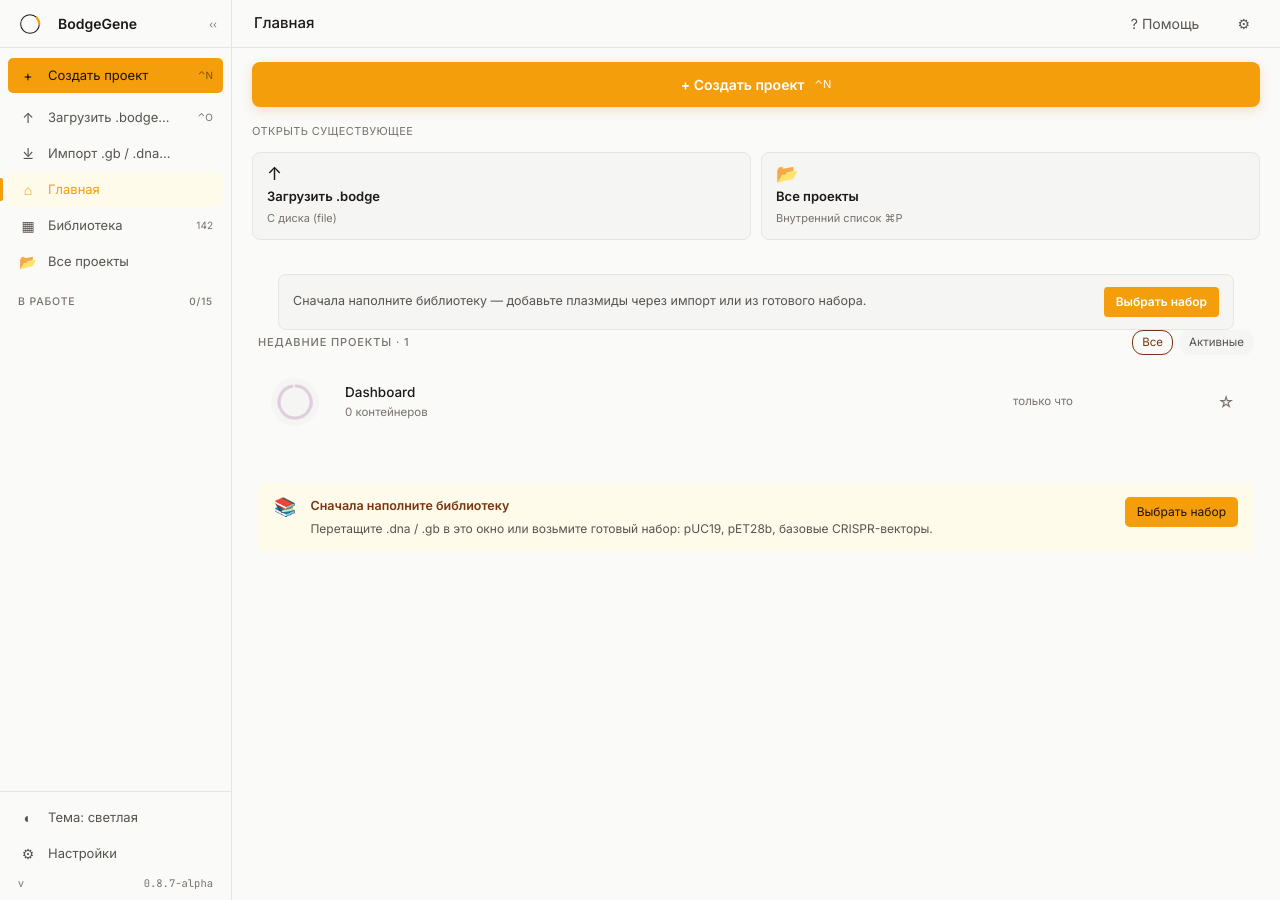
Scenario: StartScreen-Pixel — Sidebar collapse › toggle button stays visible in collapsed state with ›› icon
Click the button with test id "ss-sidebar-toggle": [213, 24] box [205,16,221,32]
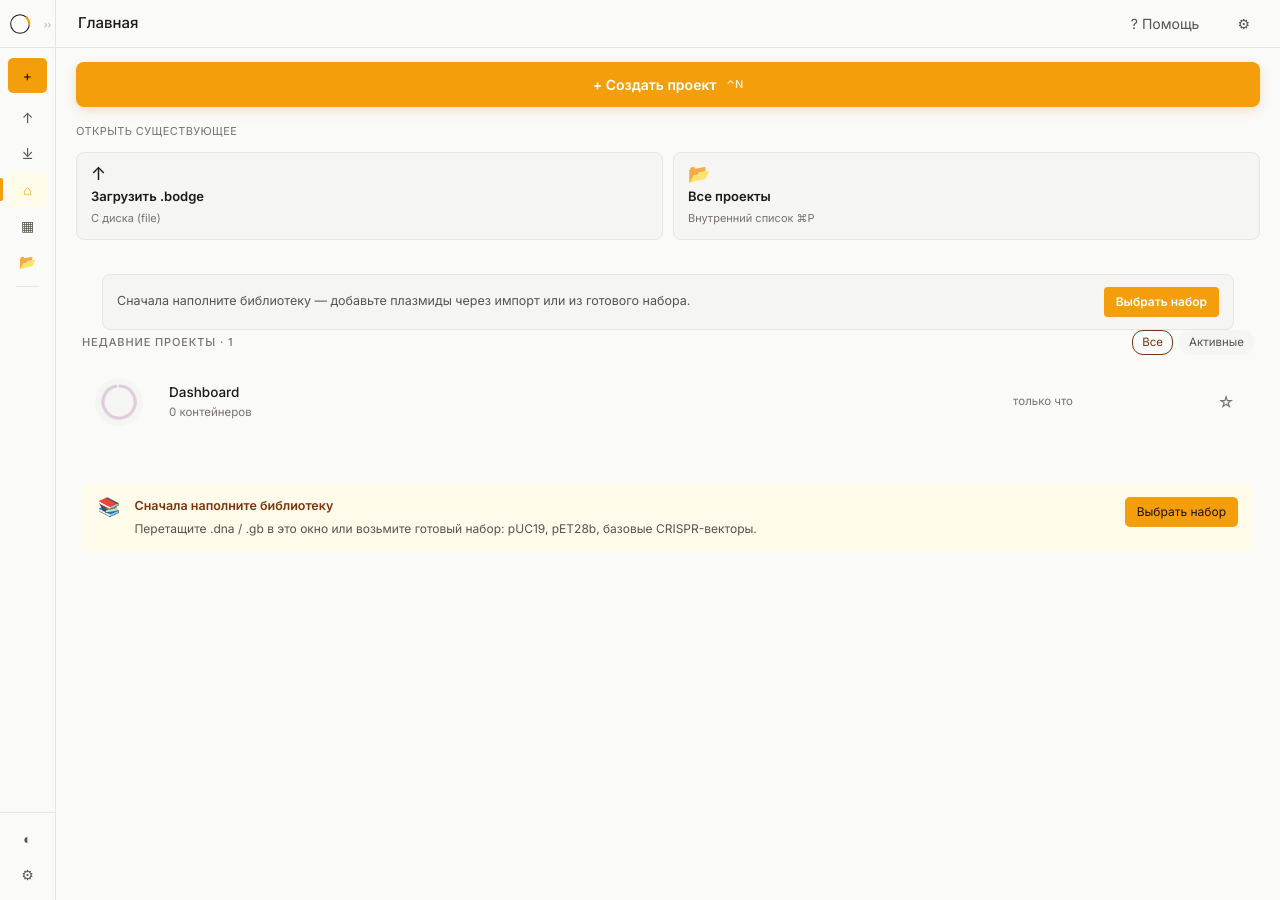
Expected: the button with test id "ss-sidebar-toggle" reads "››", [40,16,55,32]
